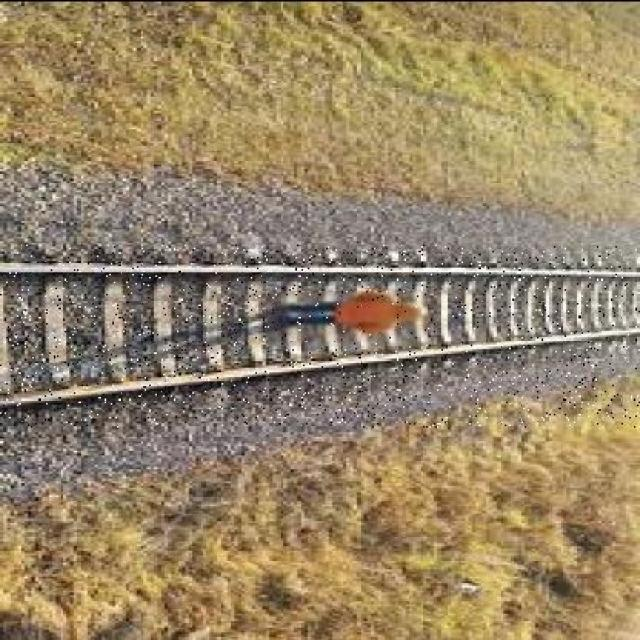danger: (268, 291, 428, 347)
rail: (0, 244, 640, 426)
